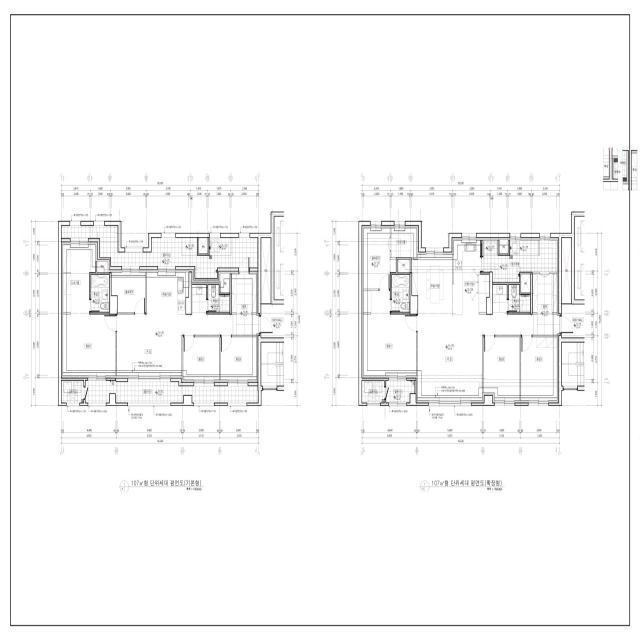space_balconi: (61, 226, 258, 278), (85, 381, 258, 403), (386, 381, 415, 402)
space_bedroom: (63, 315, 116, 375), (364, 314, 416, 375), (521, 337, 557, 400), (484, 337, 520, 400), (183, 337, 219, 380), (221, 337, 257, 379)
space_dressroom: (63, 245, 95, 313), (391, 228, 417, 257)
space_front: (232, 274, 259, 335), (533, 274, 559, 335)
space_kitchen: (411, 241, 489, 315), (147, 272, 189, 314)
space_living_room: (417, 315, 534, 400), (117, 315, 233, 375)
space_other: (483, 240, 557, 282), (364, 228, 396, 313), (111, 273, 146, 313), (410, 273, 418, 314), (110, 273, 117, 314), (186, 272, 192, 314), (487, 272, 492, 314), (220, 274, 230, 293), (521, 274, 530, 293), (398, 260, 410, 272), (199, 238, 208, 253), (499, 240, 508, 253), (97, 262, 108, 272)
space_outdoor_room: (62, 381, 84, 403), (362, 381, 384, 403)
space_toilet: (493, 285, 530, 313), (192, 285, 230, 312), (392, 275, 410, 312), (91, 275, 109, 312)
